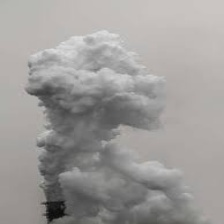smoke: (27, 41, 144, 193)
